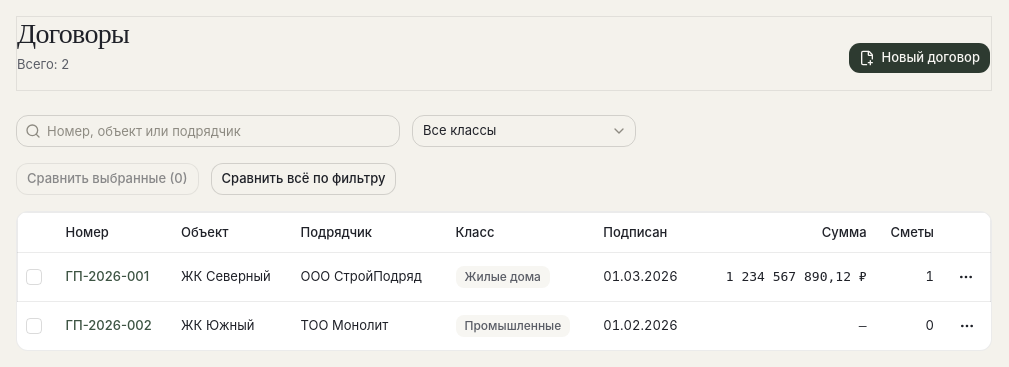
Экран «Договоры» (§7.1) › admin видит действие удаления в строке договора
Check: the link "ГП-2026-001" is shown, box [66,268,149,284]
Click the button named "Действия с договором" in the row of "ГП-2026-001". click: (966, 277)
box: [950,261,982,293]
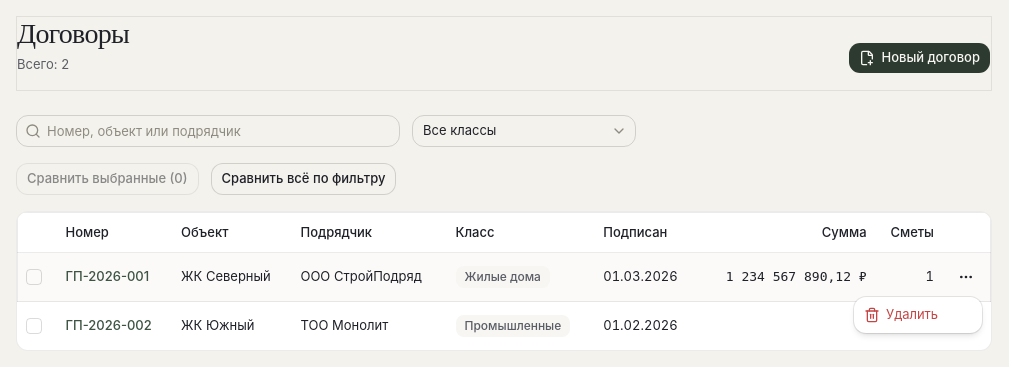
Check: the menu item "Удалить" is shown, box [864,306,938,323]
